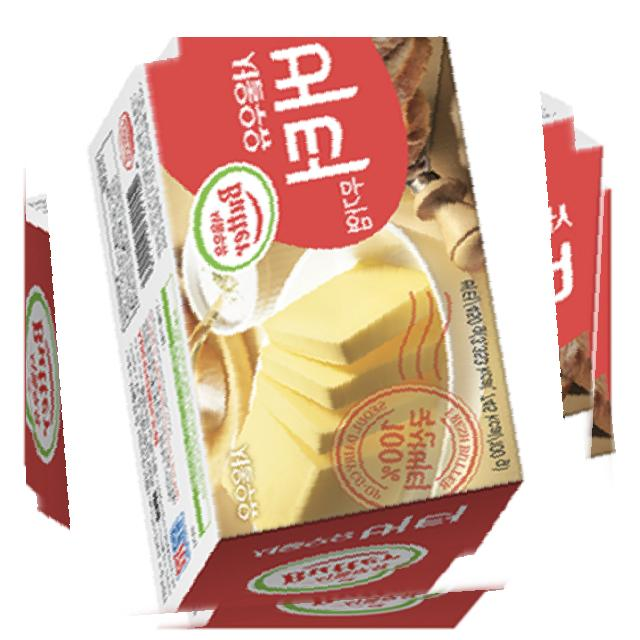biodegradable: (26, 37, 615, 626)
